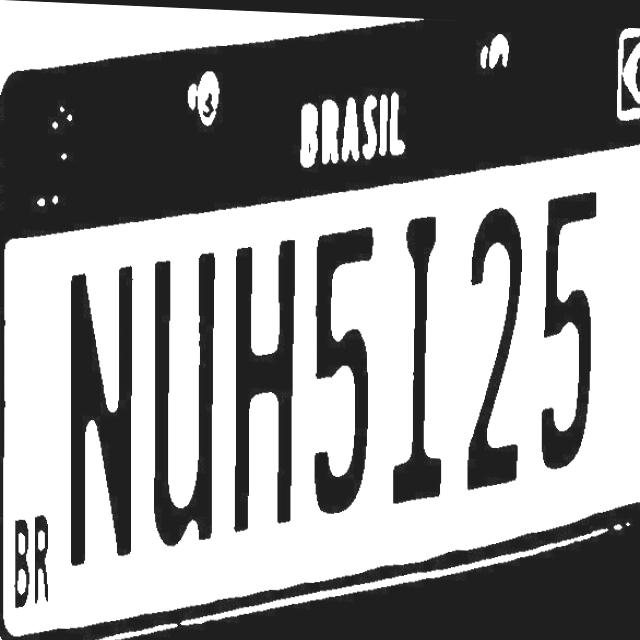2: (460, 188, 533, 498)
5: (313, 215, 377, 520), (540, 187, 600, 473)
h: (232, 240, 302, 539)
i: (384, 204, 448, 519)
n: (65, 259, 145, 596)
u: (145, 240, 224, 570)
